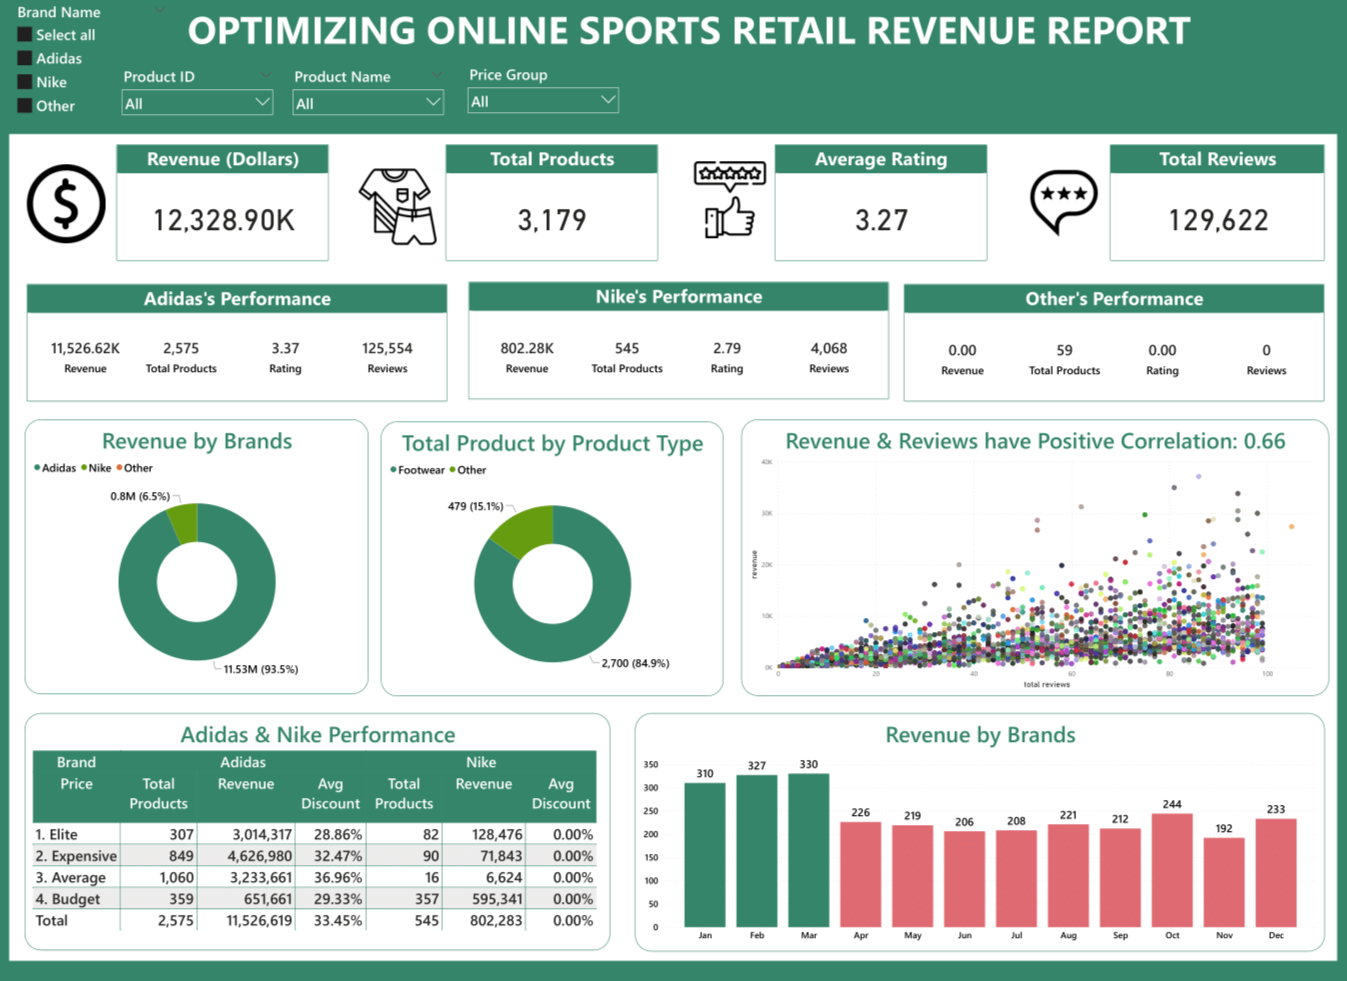

The page's visual inventory and layout, read from the dashboard file:
{"tool":"powerbi","page":{"name":"Page 1","canvas":[2450,1800],"ordinal":0},"visuals":[{"type":"shape","box":[0,0,2451.7,256.6],"z":0},{"type":"shape","box":[0,51,21,1736.3],"z":1000},{"type":"shape","box":[2429,51,21,1736.3],"z":2000},{"type":"card","title":"Revenue (Dollars)","fields":{"Values":["Measure.revenue"]},"box":[215.2,275.6,385.1,211.4],"z":3000},{"type":"card","title":"Total Products","fields":{"Values":["Measure.total products"]},"box":[811.6,275.6,385.1,211.4],"z":4000},{"type":"card","title":"Average Rating","fields":{"Values":["Measure.average rating"]},"box":[1408.1,275.6,385.1,211.4],"z":5000},{"type":"card","title":"Total Reviews","fields":{"Values":["Measure.total reviews"]},"box":[2015.9,275.6,388.8,211.4],"z":6000},{"type":"image","box":[49.1,298.2,151,169.9],"z":7000},{"type":"image","box":[649.3,283.1,151,211.4],"z":8000},{"type":"image","box":[1253.3,256.7,147.2,237.8],"z":9000},{"type":"image","box":[1861.1,279.4,143.5,203.9],"z":10000},{"type":"card","title":"Adidas''s Performance","fields":{"Values":["Measure.blank"]},"box":[51,527.8,761.7,212.9],"z":11000},{"type":"donutChart","title":"Revenue by Brands","fields":{"Y":["Measure.revenue"],"Category":["brands.brand"]},"box":[49.1,773.9,622.9,498.3],"z":12000},{"type":"donutChart","title":"Total Product by Product Type","fields":{"Y":["Measure.total products"],"Category":["info.product_type"]},"box":[695.7,776.7,620.7,497.8],"z":13000},{"type":"scatterChart","fields":{"X":["Measure.total reviews"],"Y":["Measure.revenue"],"Series":["brands.product_id"]},"box":[1349.4,773.7,1064.6,500.8],"z":14000},{"type":"pivotTable","title":"Adidas & Nike Performance","fields":{"Values":["Measure.total products","Measure.revenue","Measure.average discount"],"Columns":["brands.brand"],"Rows":["info.price_cat"]},"box":[49.1,1306.2,1060.8,430.4],"z":15000},{"type":"clusteredColumnChart","title":"Revenue by Brands","fields":{"Y":["Measure.total products"],"Category":["info.last_visit"]},"box":[1154.5,1307.5,1250.5,431.8],"z":16000},{"type":"shape","box":[0,1754.3,2453,45],"z":17000},{"type":"actionButton","title":"Title","box":[192.5,0,2121.6,128.4],"z":18000},{"type":"card","title":"Other''s Performance","fields":{"Values":["Measure.blank"]},"box":[1643.3,527.8,761.7,212.9],"z":19000},{"type":"card","title":"Nike''s Performance","fields":{"Values":["Measure.blank"]},"box":[851.7,524.8,761.7,212.9],"z":20000},{"type":"card","title":"Revenue (Dollars)","fields":{"Values":["Measure.revenue"]},"box":[51,590.8,212.9,137.9],"z":21000},{"type":"card","title":"Revenue (Dollars)","fields":{"Values":["Measure.total products"]},"box":[227.9,590.8,212.9,137.9],"z":22000},{"type":"card","title":"Revenue (Dollars)","fields":{"Values":["Measure.average rating"]},"box":[413.8,590.8,212.9,137.9],"z":23000},{"type":"card","title":"Revenue (Dollars)","fields":{"Values":["Measure.total reviews"]},"box":[599.8,590.8,212.9,137.9],"z":24000},{"type":"card","title":"Revenue (Dollars)","fields":{"Values":["Measure.revenue"]},"box":[851.7,590.8,212.9,137.9],"z":25000},{"type":"card","title":"Revenue (Dollars)","fields":{"Values":["Measure.total products"]},"box":[1034.6,590.8,212.9,137.9],"z":26000},{"type":"card","title":"Revenue (Dollars)","fields":{"Values":["Measure.average rating"]},"box":[1214.5,590.8,212.9,137.9],"z":27000},{"type":"card","title":"Revenue (Dollars)","fields":{"Values":["Measure.total reviews"]},"box":[1400.4,590.8,212.9,137.9],"z":28000},{"type":"card","title":"Revenue (Dollars)","fields":{"Values":["Measure.revenue"]},"box":[1643.1,591.3,212.9,137.9],"z":29000},{"type":"card","title":"Revenue (Dollars)","fields":{"Values":["Measure.total products"]},"box":[1826,591.3,212.9,137.9],"z":30000},{"type":"card","title":"Revenue (Dollars)","fields":{"Values":["Measure.average rating"]},"box":[2005.9,591.3,212.9,137.9],"z":31000},{"type":"card","title":"Revenue (Dollars)","fields":{"Values":["Measure.total reviews"]},"box":[2191.9,591.3,212.9,137.9],"z":32000},{"type":"slicer","fields":{"Values":["brands.brand"]},"box":[22.7,11.3,294.5,245.4],"z":33000},{"type":"slicer","fields":{"Values":["info.product_id"]},"box":[215.2,128.4,294.5,113.3],"z":34000},{"type":"slicer","fields":{"Values":["info.product_name"]},"box":[524.7,128.4,294.5,113.3],"z":35000},{"type":"slicer","fields":{"Values":["info.price_cat"]},"box":[841.8,124.6,294.5,113.3],"z":36000}]}

Visuals, with their boxes in screenshot pixels (x1, y1, x2, y2), scaled from the page's 2450x1800 canvas onto the 1347x981 screenshot:
shape: locate(0, 0, 1346, 140)
shape: locate(0, 28, 12, 974)
shape: locate(1335, 28, 1346, 974)
"Revenue (Dollars)" card: locate(118, 150, 330, 265)
"Total Products" card: locate(446, 150, 658, 265)
"Average Rating" card: locate(774, 150, 986, 265)
"Total Reviews" card: locate(1108, 150, 1322, 265)
image: locate(27, 163, 110, 255)
image: locate(357, 154, 440, 270)
image: locate(689, 140, 770, 270)
image: locate(1023, 152, 1102, 263)
"Adidas''s Performance" card: locate(28, 288, 447, 404)
"Revenue by Brands" donutChart: locate(27, 422, 369, 693)
"Total Product by Product Type" donutChart: locate(382, 423, 724, 695)
scatterChart - Measure.total reviews x Measure.revenue: locate(742, 422, 1327, 695)
"Adidas & Nike Performance" pivotTable: locate(27, 712, 610, 946)
"Revenue by Brands" clusteredColumnChart: locate(635, 713, 1322, 948)
shape: locate(0, 956, 1346, 980)
"Title" actionButton: locate(106, 0, 1272, 70)
"Other''s Performance" card: locate(903, 288, 1322, 404)
"Nike''s Performance" card: locate(468, 286, 887, 402)
"Revenue (Dollars)" card: locate(28, 322, 145, 397)
"Revenue (Dollars)" card: locate(125, 322, 242, 397)
"Revenue (Dollars)" card: locate(228, 322, 345, 397)
"Revenue (Dollars)" card: locate(330, 322, 447, 397)
"Revenue (Dollars)" card: locate(468, 322, 585, 397)
"Revenue (Dollars)" card: locate(569, 322, 686, 397)
"Revenue (Dollars)" card: locate(668, 322, 785, 397)
"Revenue (Dollars)" card: locate(770, 322, 887, 397)
"Revenue (Dollars)" card: locate(903, 322, 1020, 397)
"Revenue (Dollars)" card: locate(1004, 322, 1121, 397)
"Revenue (Dollars)" card: locate(1103, 322, 1220, 397)
"Revenue (Dollars)" card: locate(1205, 322, 1322, 397)
slicer - brands.brand: locate(12, 6, 174, 140)
slicer - info.product_id: locate(118, 70, 280, 132)
slicer - info.product_name: locate(288, 70, 450, 132)
slicer - info.price_cat: locate(463, 68, 625, 130)
